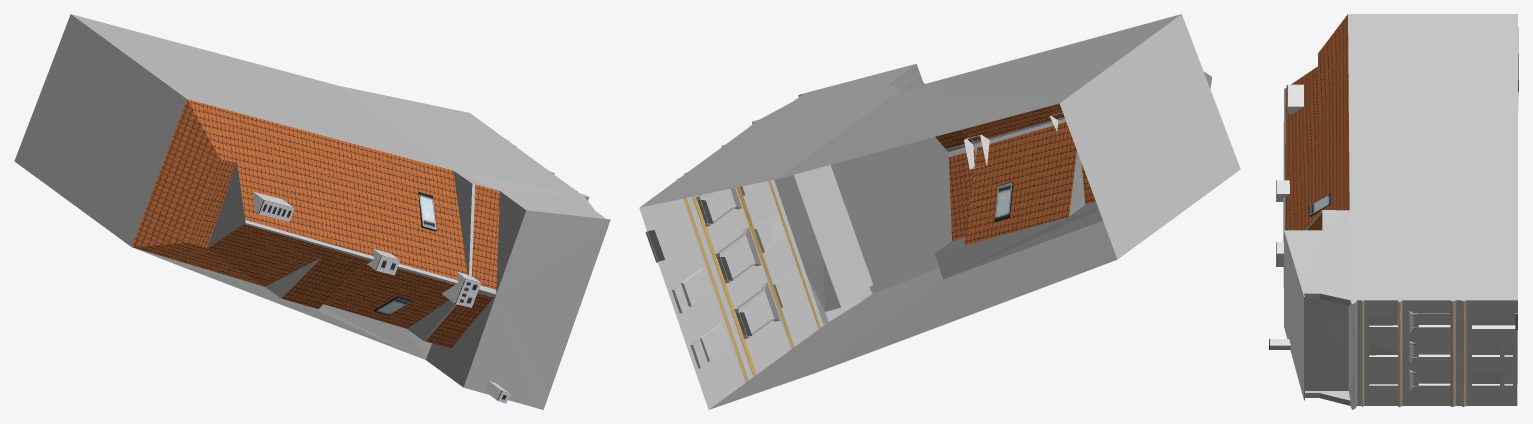
File: Pikk-49.obj
3 renders of one model, left to right at view 1: azimuth 30°, elevation 25°; view 2: azimuth 150°, elevation 25°; view 3: azimuth 270°, elevation 25°, orthographic. The views are drawn at different scales.
Visible parts, largest first — view 1: pikk_49; view 2: pikk_49; view 3: pikk_49.
Boxes of the visible parts, bbox=[...] form: pikk_49: bbox=[14, 14, 610, 409]; pikk_49: bbox=[639, 14, 1240, 409]; pikk_49: bbox=[1269, 14, 1518, 409].
Bounding box in the file's own units: 26.75 × 20.81 × 17.16.
